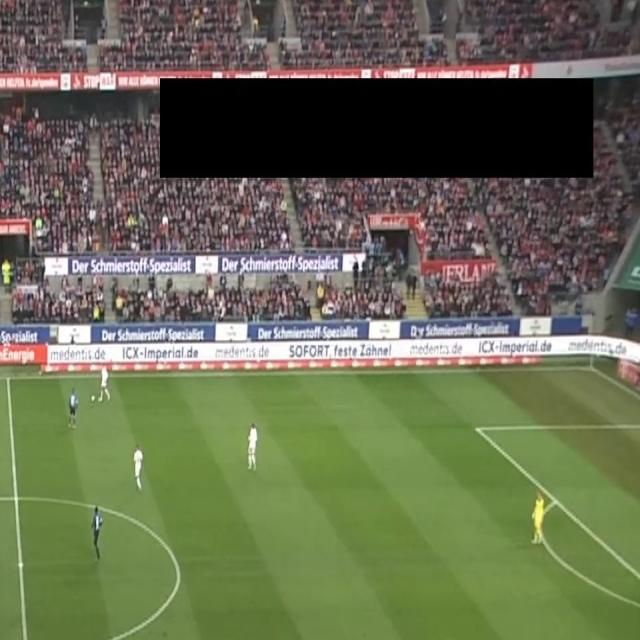ball: (90, 393, 96, 404)
